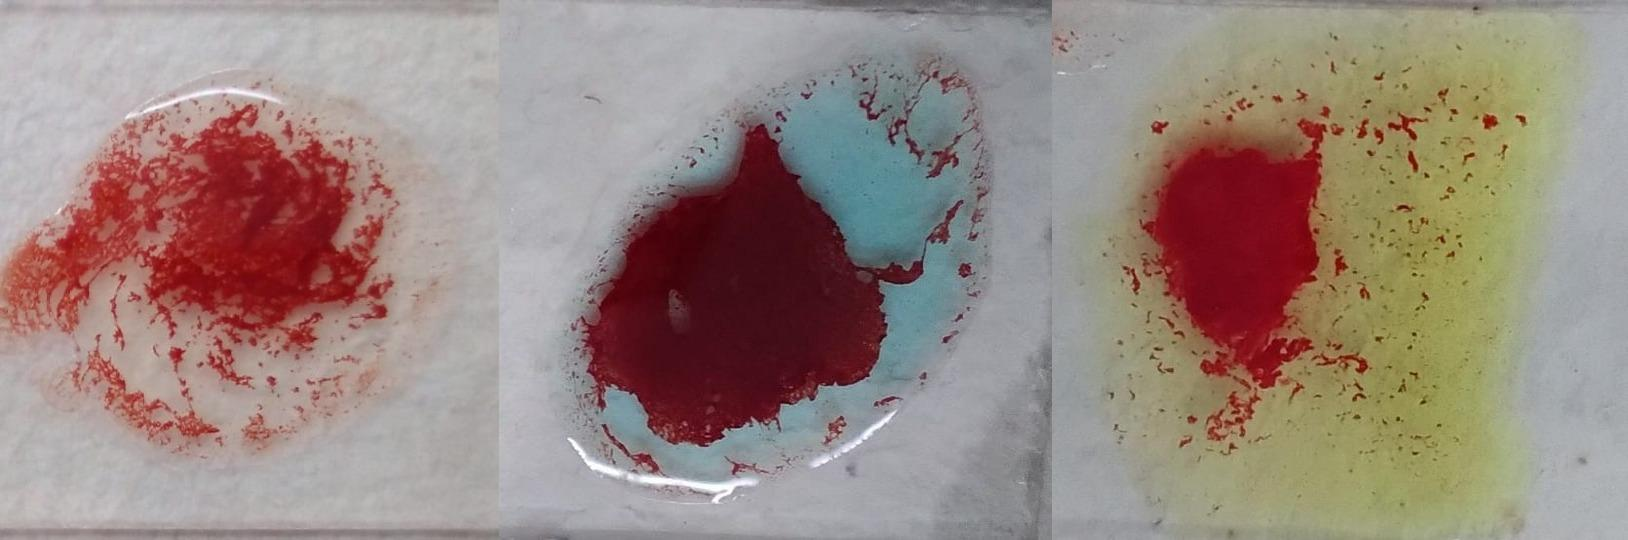A: (558, 58, 977, 506)
B: (1105, 18, 1513, 536)
D: (52, 83, 390, 456)
